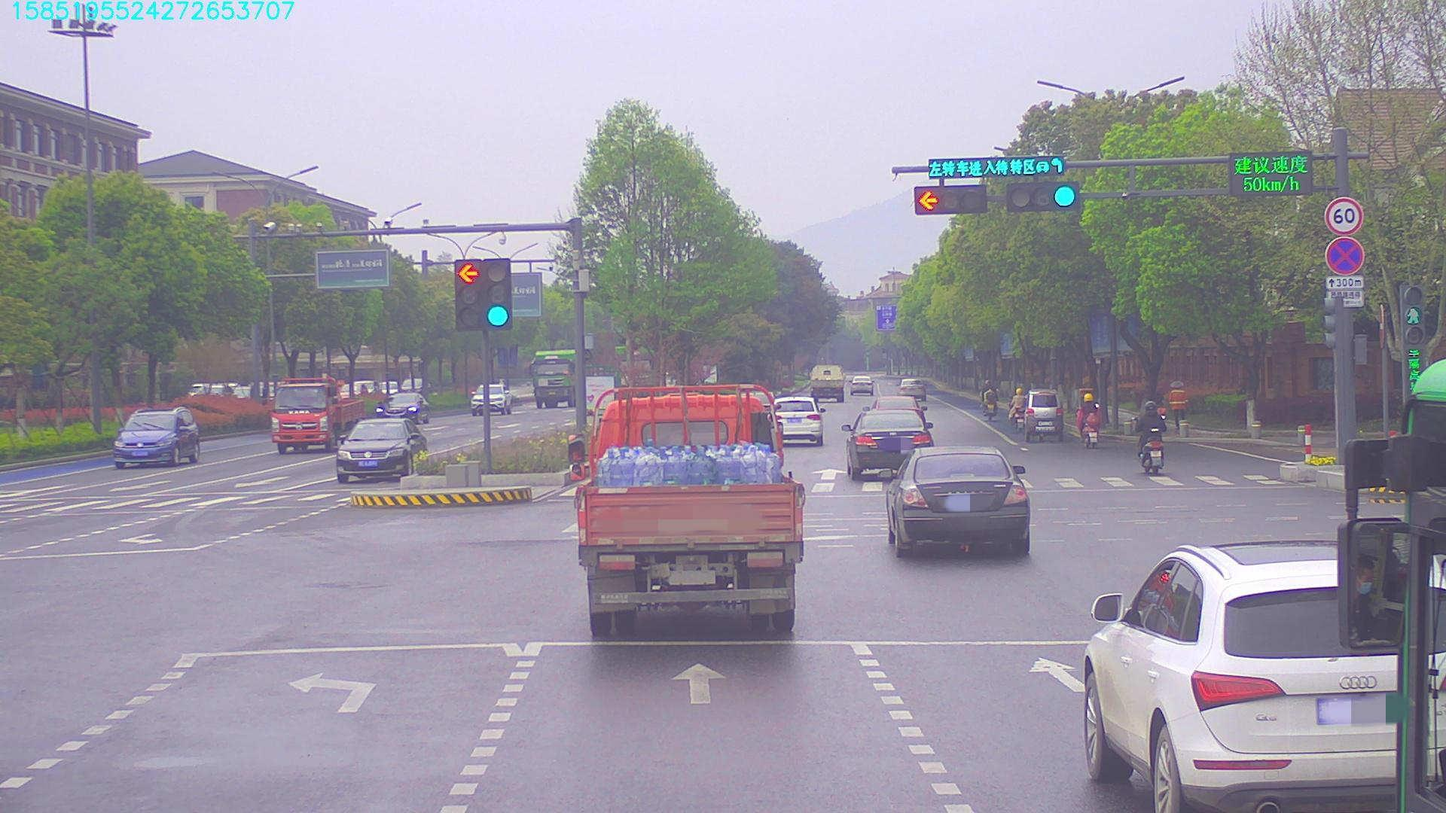green: (1006, 179, 1072, 209)
red: (913, 182, 979, 211)
wait_on: (926, 157, 1063, 177)
